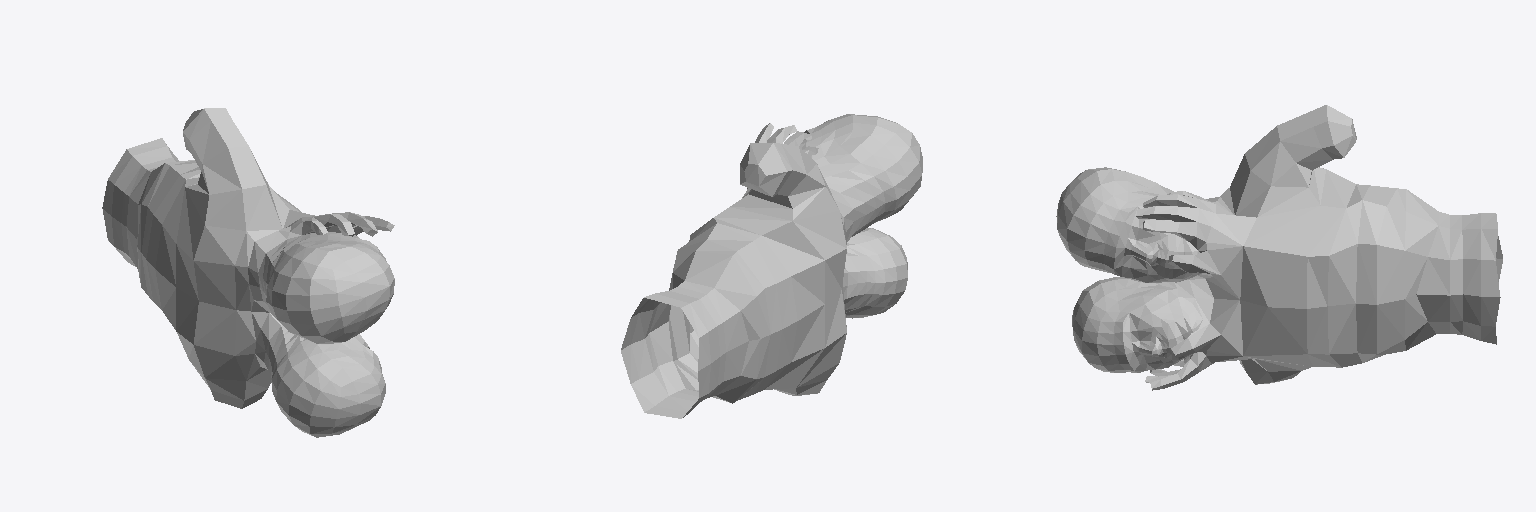
Rendered from nyomi_reference.obj.
3 views of the same model, side by side, from view 1: azimuth 30°, elevation 25°; view 2: azimuth 150°, elevation 25°; view 3: azimuth 270°, elevation 25° (orthographic).
Visible parts, largest first — view 1: nyomi; view 2: nyomi; view 3: nyomi.
Part boxes in pixels (x1,y1,x2,y2): nyomi: (102,108,394,437); nyomi: (621,114,922,418); nyomi: (1056,105,1502,390).
Bounding box in the file's own units: 19.65 × 36.43 × 53.68.